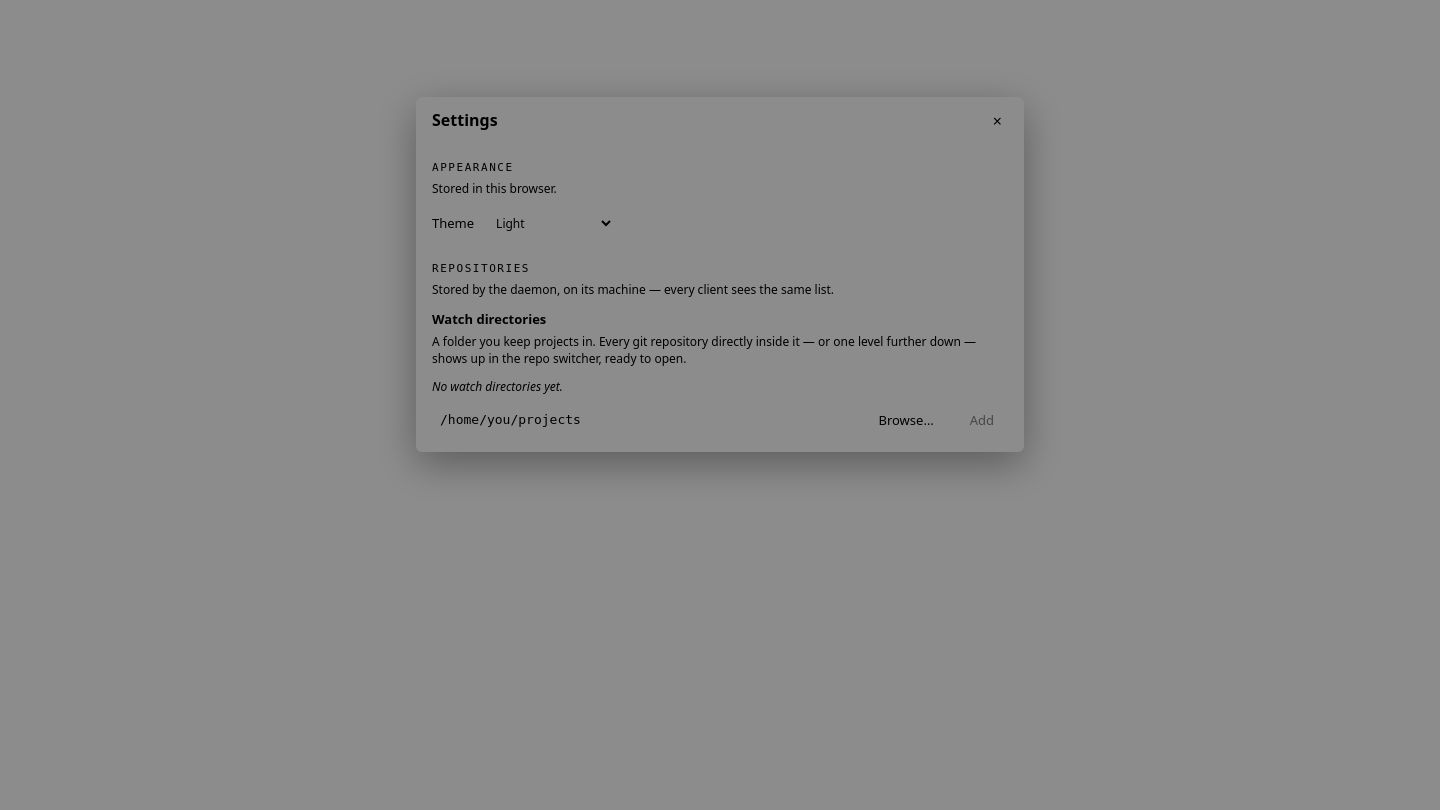
Test: browsing for a directory › picking a folder in the browser adds it, no typing involved
Click the button with test id "settings-browse".
click(906, 420)  # box 864,405 -> 948,436
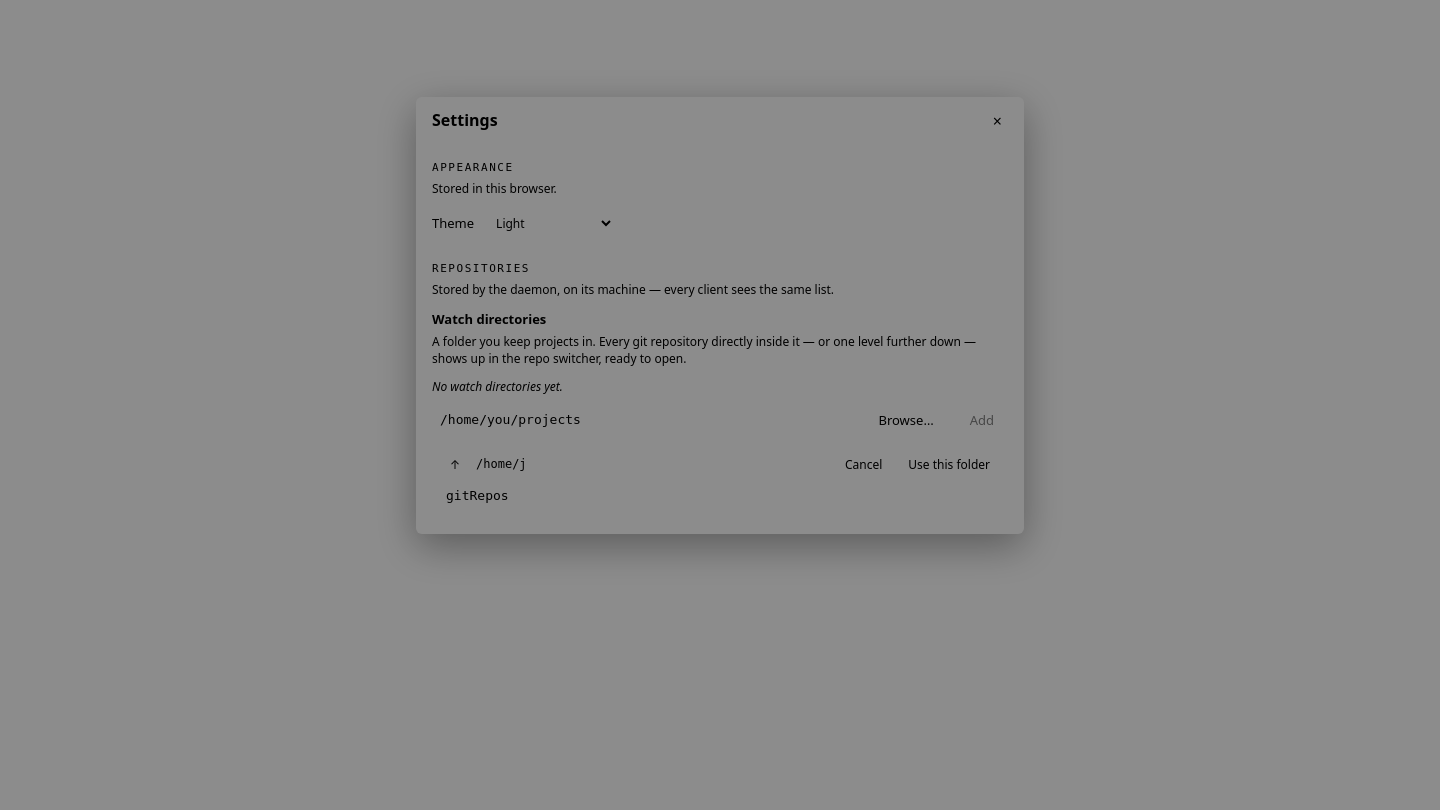
Expected: the element with test id "directory-picker" is shown, 432,444 -> 1008,518
Walk into the listed folder, then take it.
Click the button with class "entry".
click(477, 496)  # box 440,483 -> 1000,510
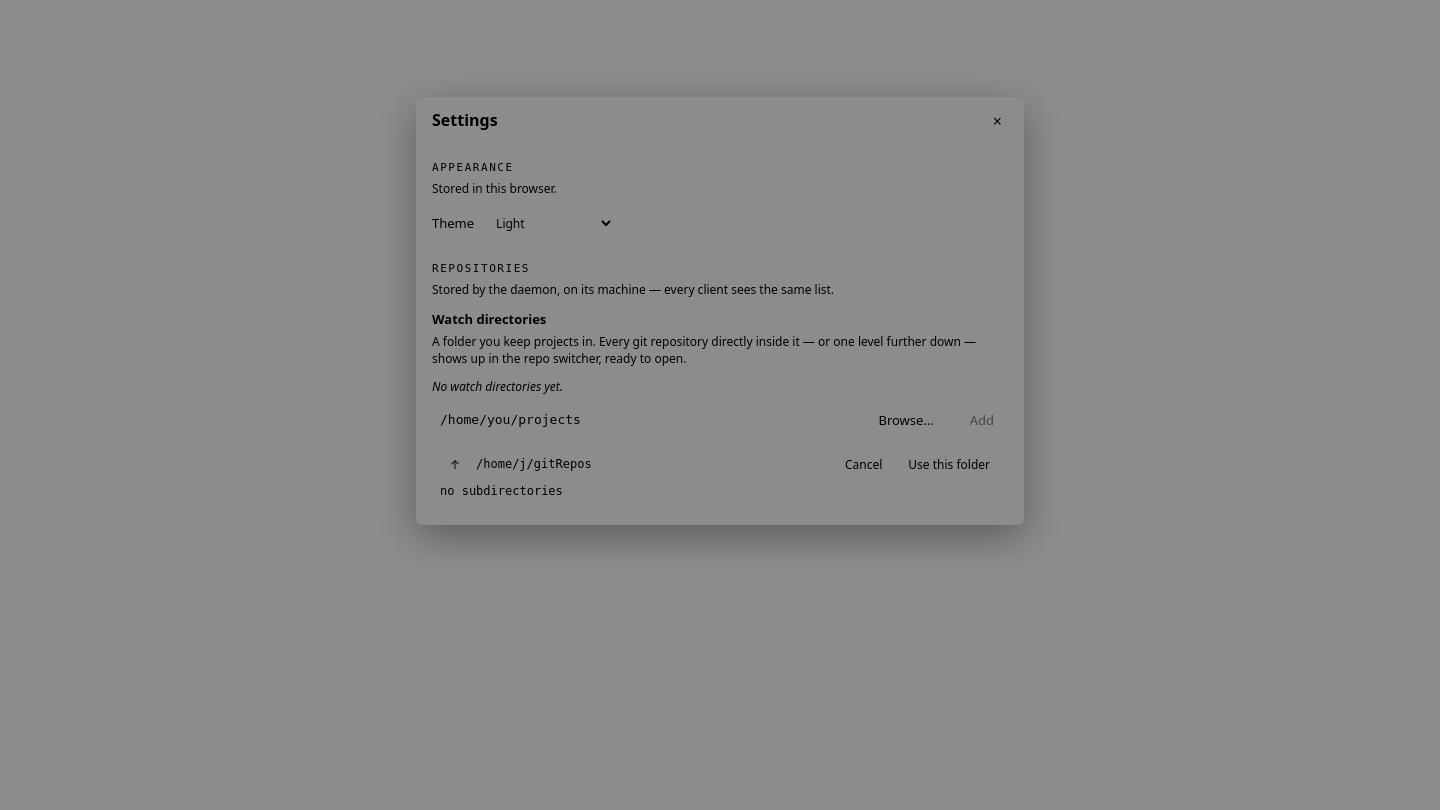
Click the button with class "use".
click(949, 465)  # box 898,452 -> 1000,477
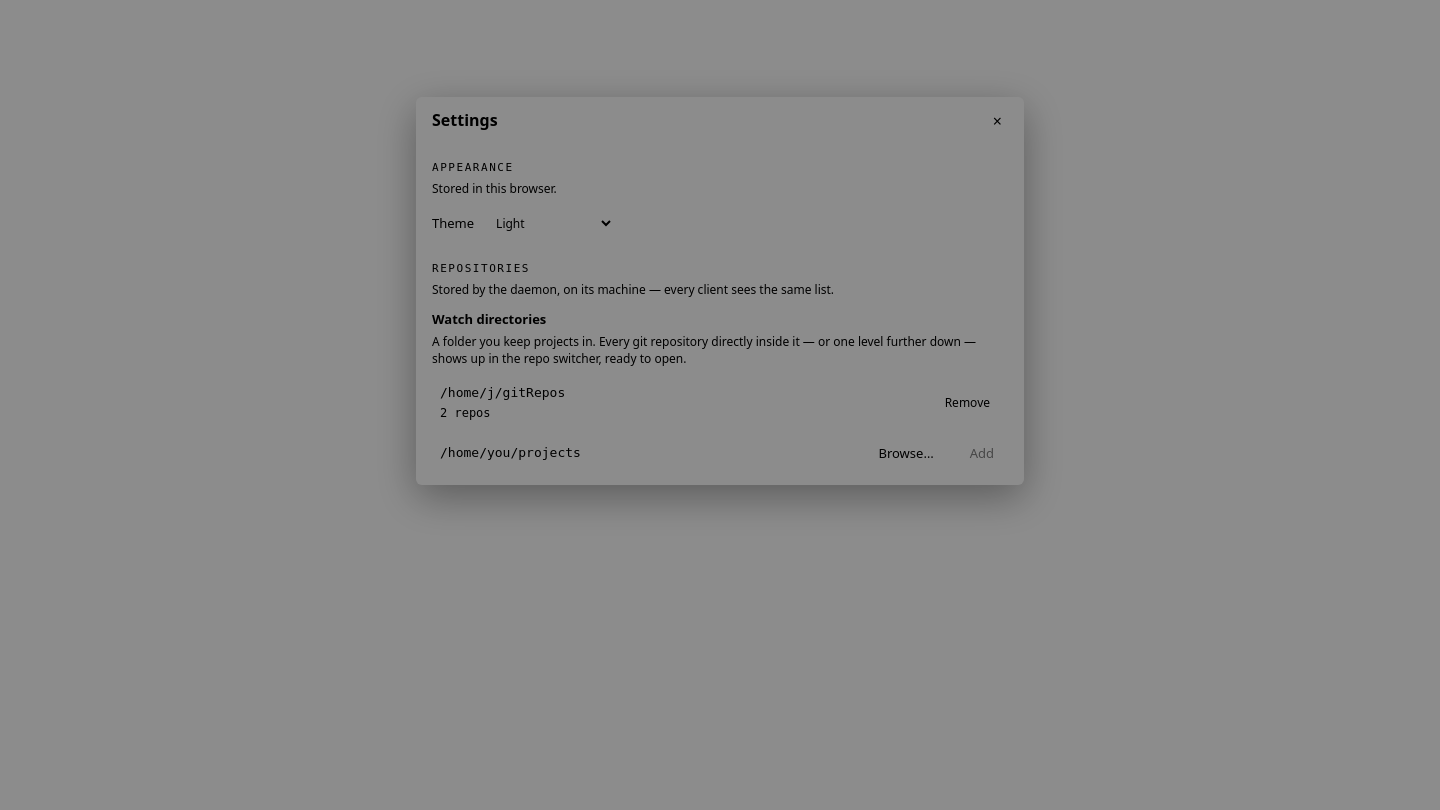
Expected: the list with test id "watch-roots" shows "/home/j/gitRepos", 440,385 -> 565,400
